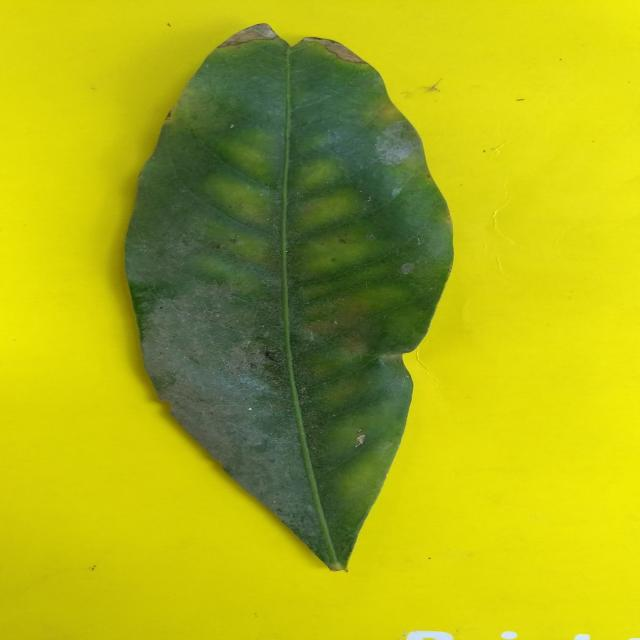defectedseethaashoka: (127, 24, 453, 570)
